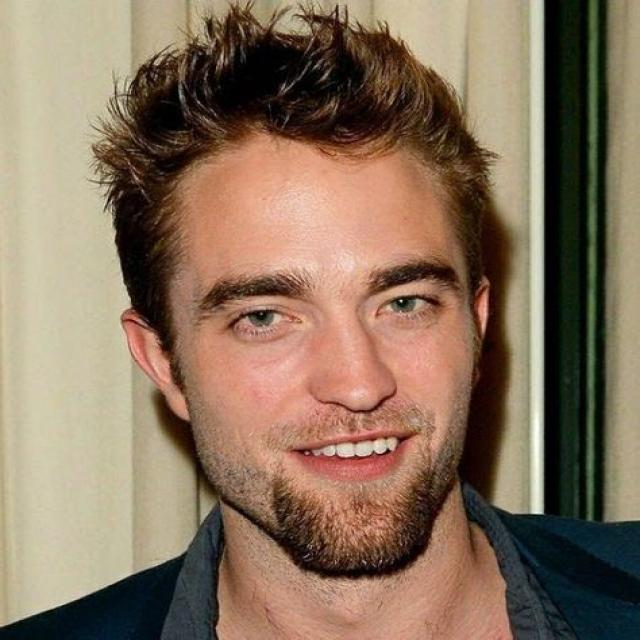beard: (243, 450, 460, 579)
hair: (93, 5, 491, 294)
